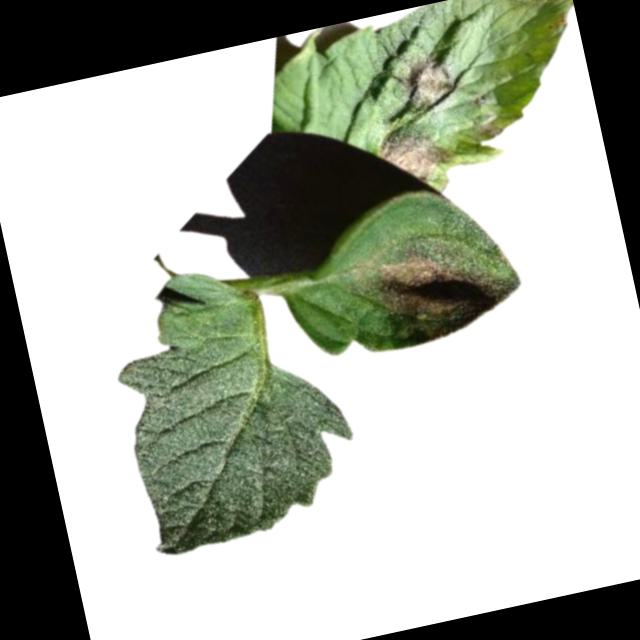Late_blight: (373, 236, 524, 349), (372, 116, 455, 190), (391, 49, 467, 116), (476, 116, 505, 145), (544, 10, 570, 37)
